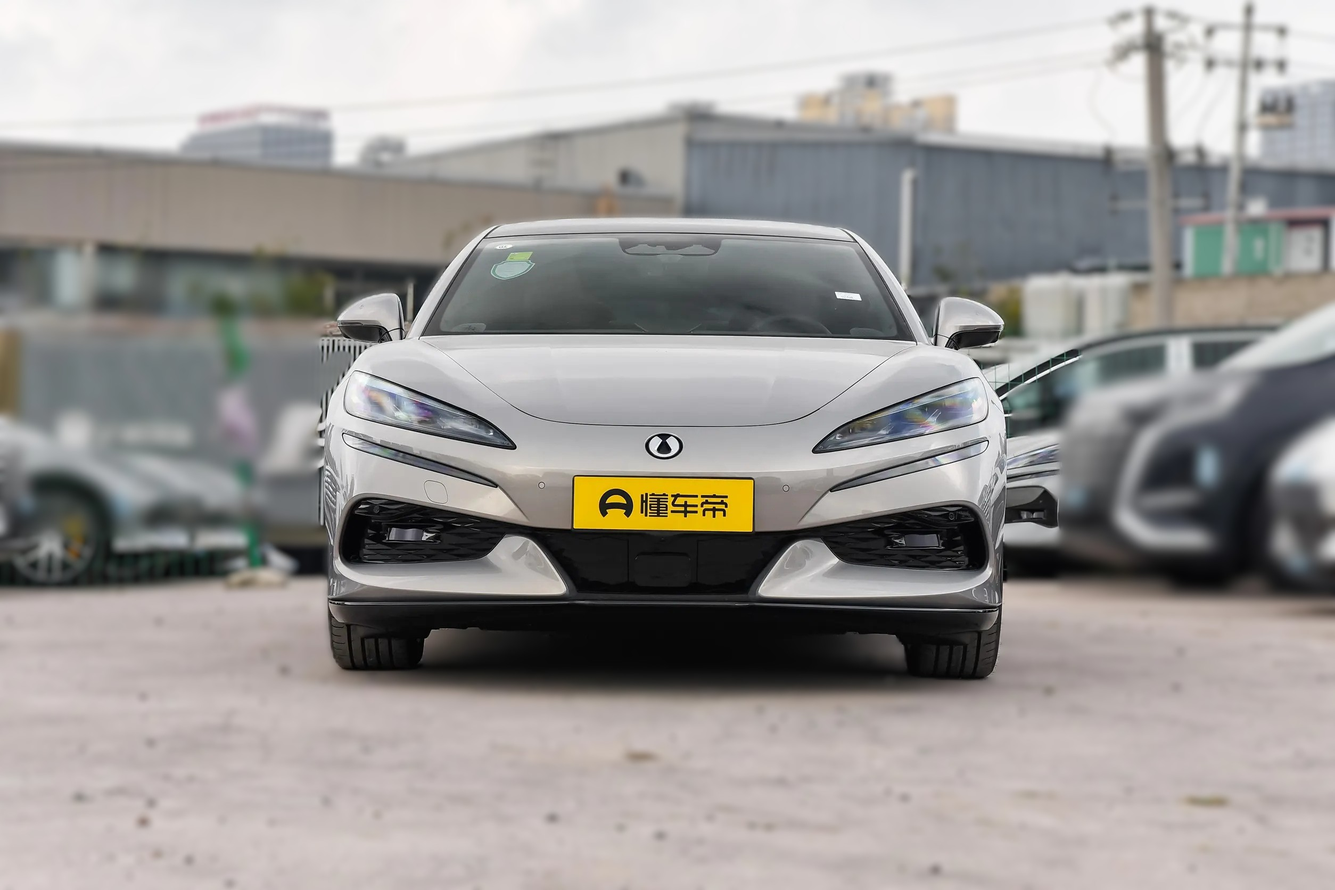DENZA: (649, 436, 678, 456)
